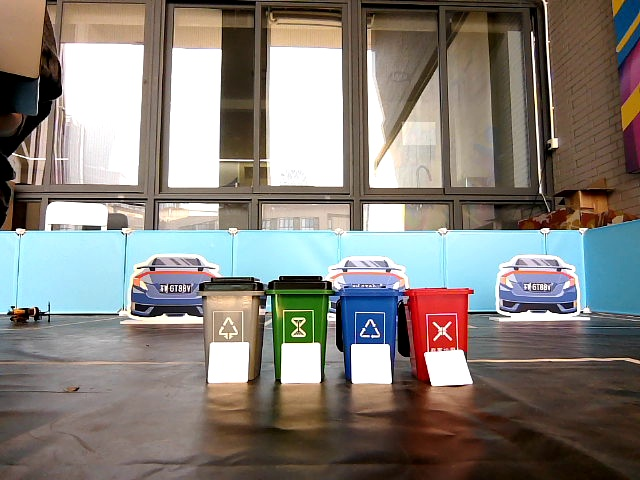blue_open: (341, 291, 395, 342)
green_close: (271, 275, 325, 340)
grey_close: (204, 277, 263, 342)
red_open: (410, 287, 466, 348)
